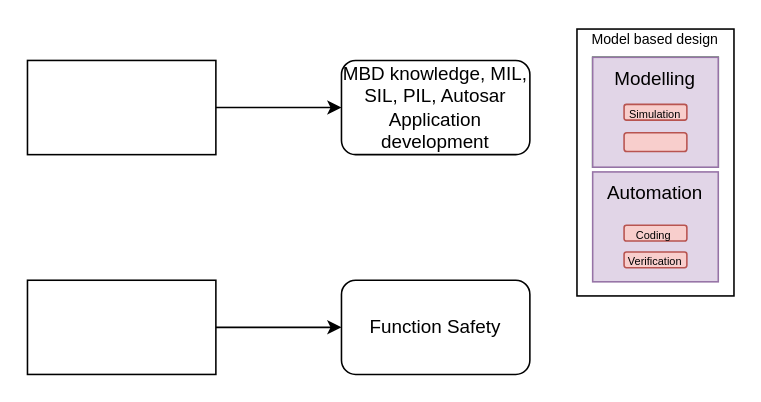
The diagram is 761 pixels wide and 402 high, and some of its shapes have lost their labels. The shapes that lost their labels are listed below. From the top down, each one's centre as x and y in pixels, then its label:
At point 121,107: "Mush Have".
At point 655,141: "Analysis".
At point 121,326: "Good to have".
